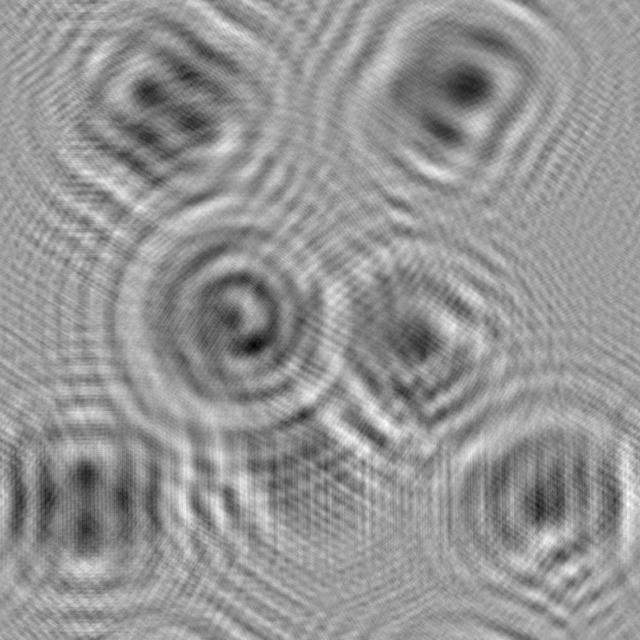F: (300, 0, 590, 223)
G: (81, 171, 354, 446)
H: (30, 0, 300, 256), (0, 366, 233, 624)
I: (177, 359, 431, 596)
J: (281, 206, 544, 481), (403, 374, 640, 628)
